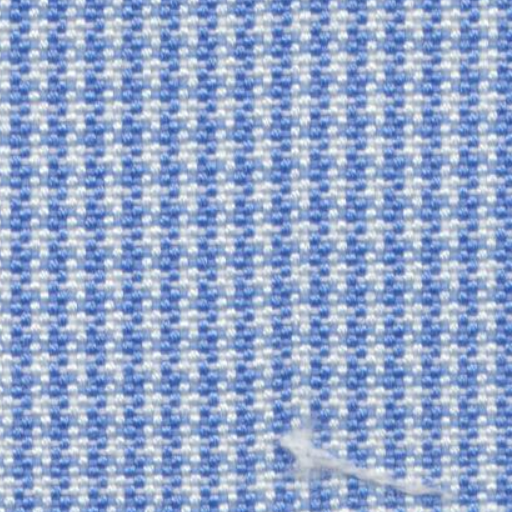DuanSha: (272, 420, 477, 504)
